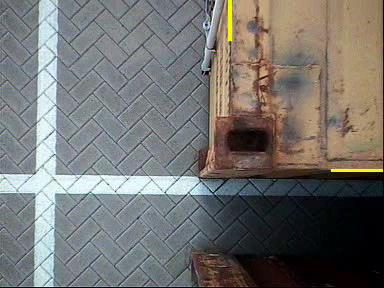groundmarker_2: (166, 88, 236, 133), (197, 222, 239, 276)
